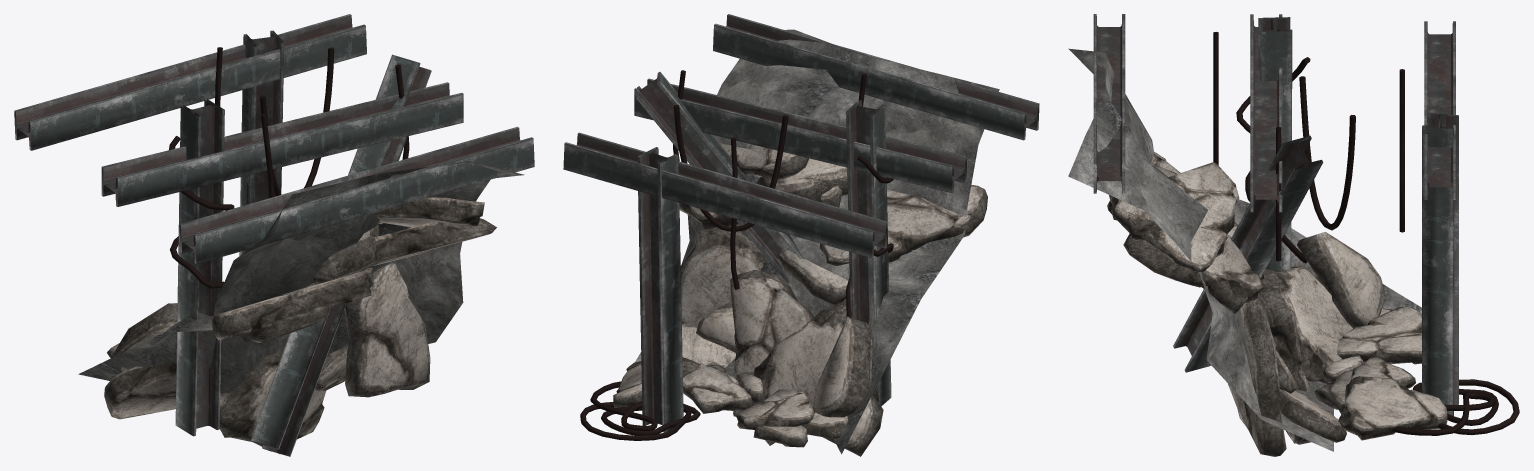
Rendered from walldebris.dae.
3 renders of one model, left to right at view 1: azimuth 30°, elevation 25°; view 2: azimuth 150°, elevation 25°; view 3: azimuth 270°, elevation 25°, orthographic. The views are drawn at different scales.
Visible parts, largest first — view 1: ColumnH, ConcreteRubble, Rubble, Cable; view 2: ColumnH, ConcreteRubble, Rubble, Cable; view 3: ConcreteRubble, ColumnH, Rubble, Cable.
Boxes of the visible parts, left/top/right/bottom form: ColumnH: left=14, top=14, right=534, bottom=456; ConcreteRubble: left=104, top=197, right=496, bottom=454; Rubble: left=78, top=161, right=524, bottom=393; Cable: left=169, top=47, right=409, bottom=288; ColumnH: left=563, top=14, right=1039, bottom=432; ConcreteRubble: left=613, top=143, right=987, bottom=456; Rubble: left=635, top=29, right=999, bottom=454; Cable: left=580, top=70, right=893, bottom=440; ConcreteRubble: left=1107, top=152, right=1447, bottom=456; ColumnH: left=1093, top=14, right=1458, bottom=415; Rubble: left=1068, top=48, right=1421, bottom=451; Cable: left=1213, top=32, right=1519, bottom=435.
Bounding box in the file's own units: 688 × 775 × 725.
4 materials, 4 textured.
